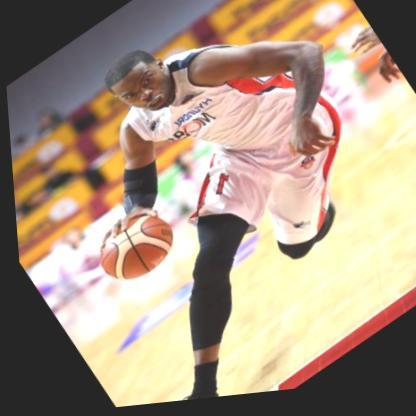basketball: (83, 207, 180, 296)
